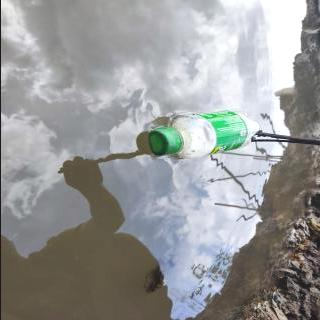bottle: (148, 108, 262, 162)
